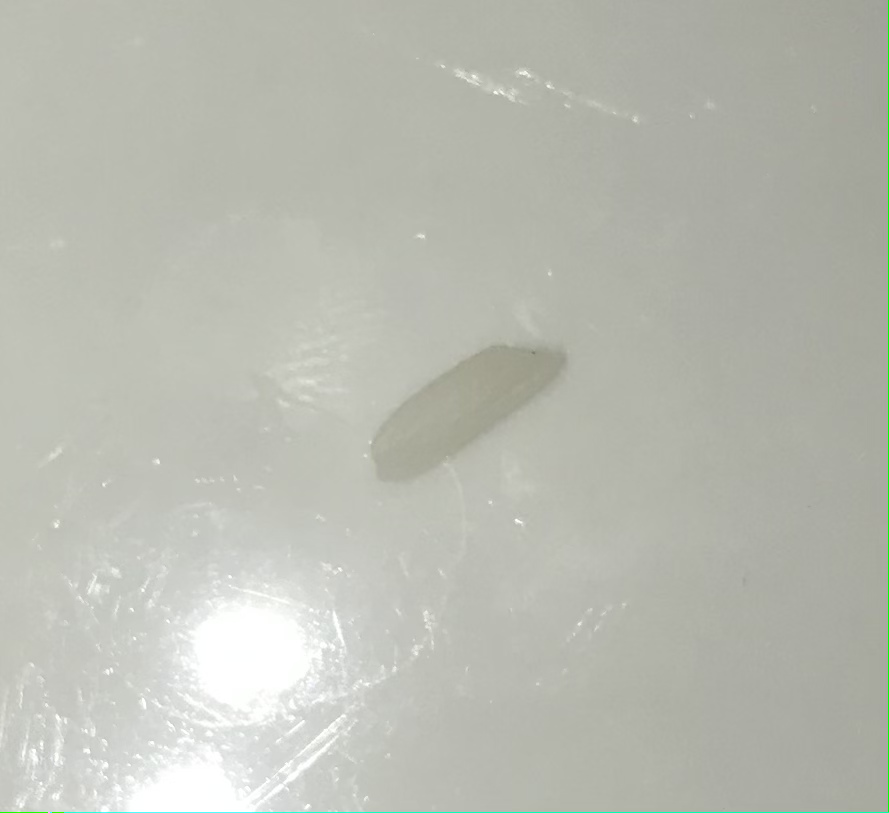Gao Thom Go Cong: (368, 308, 564, 502)
